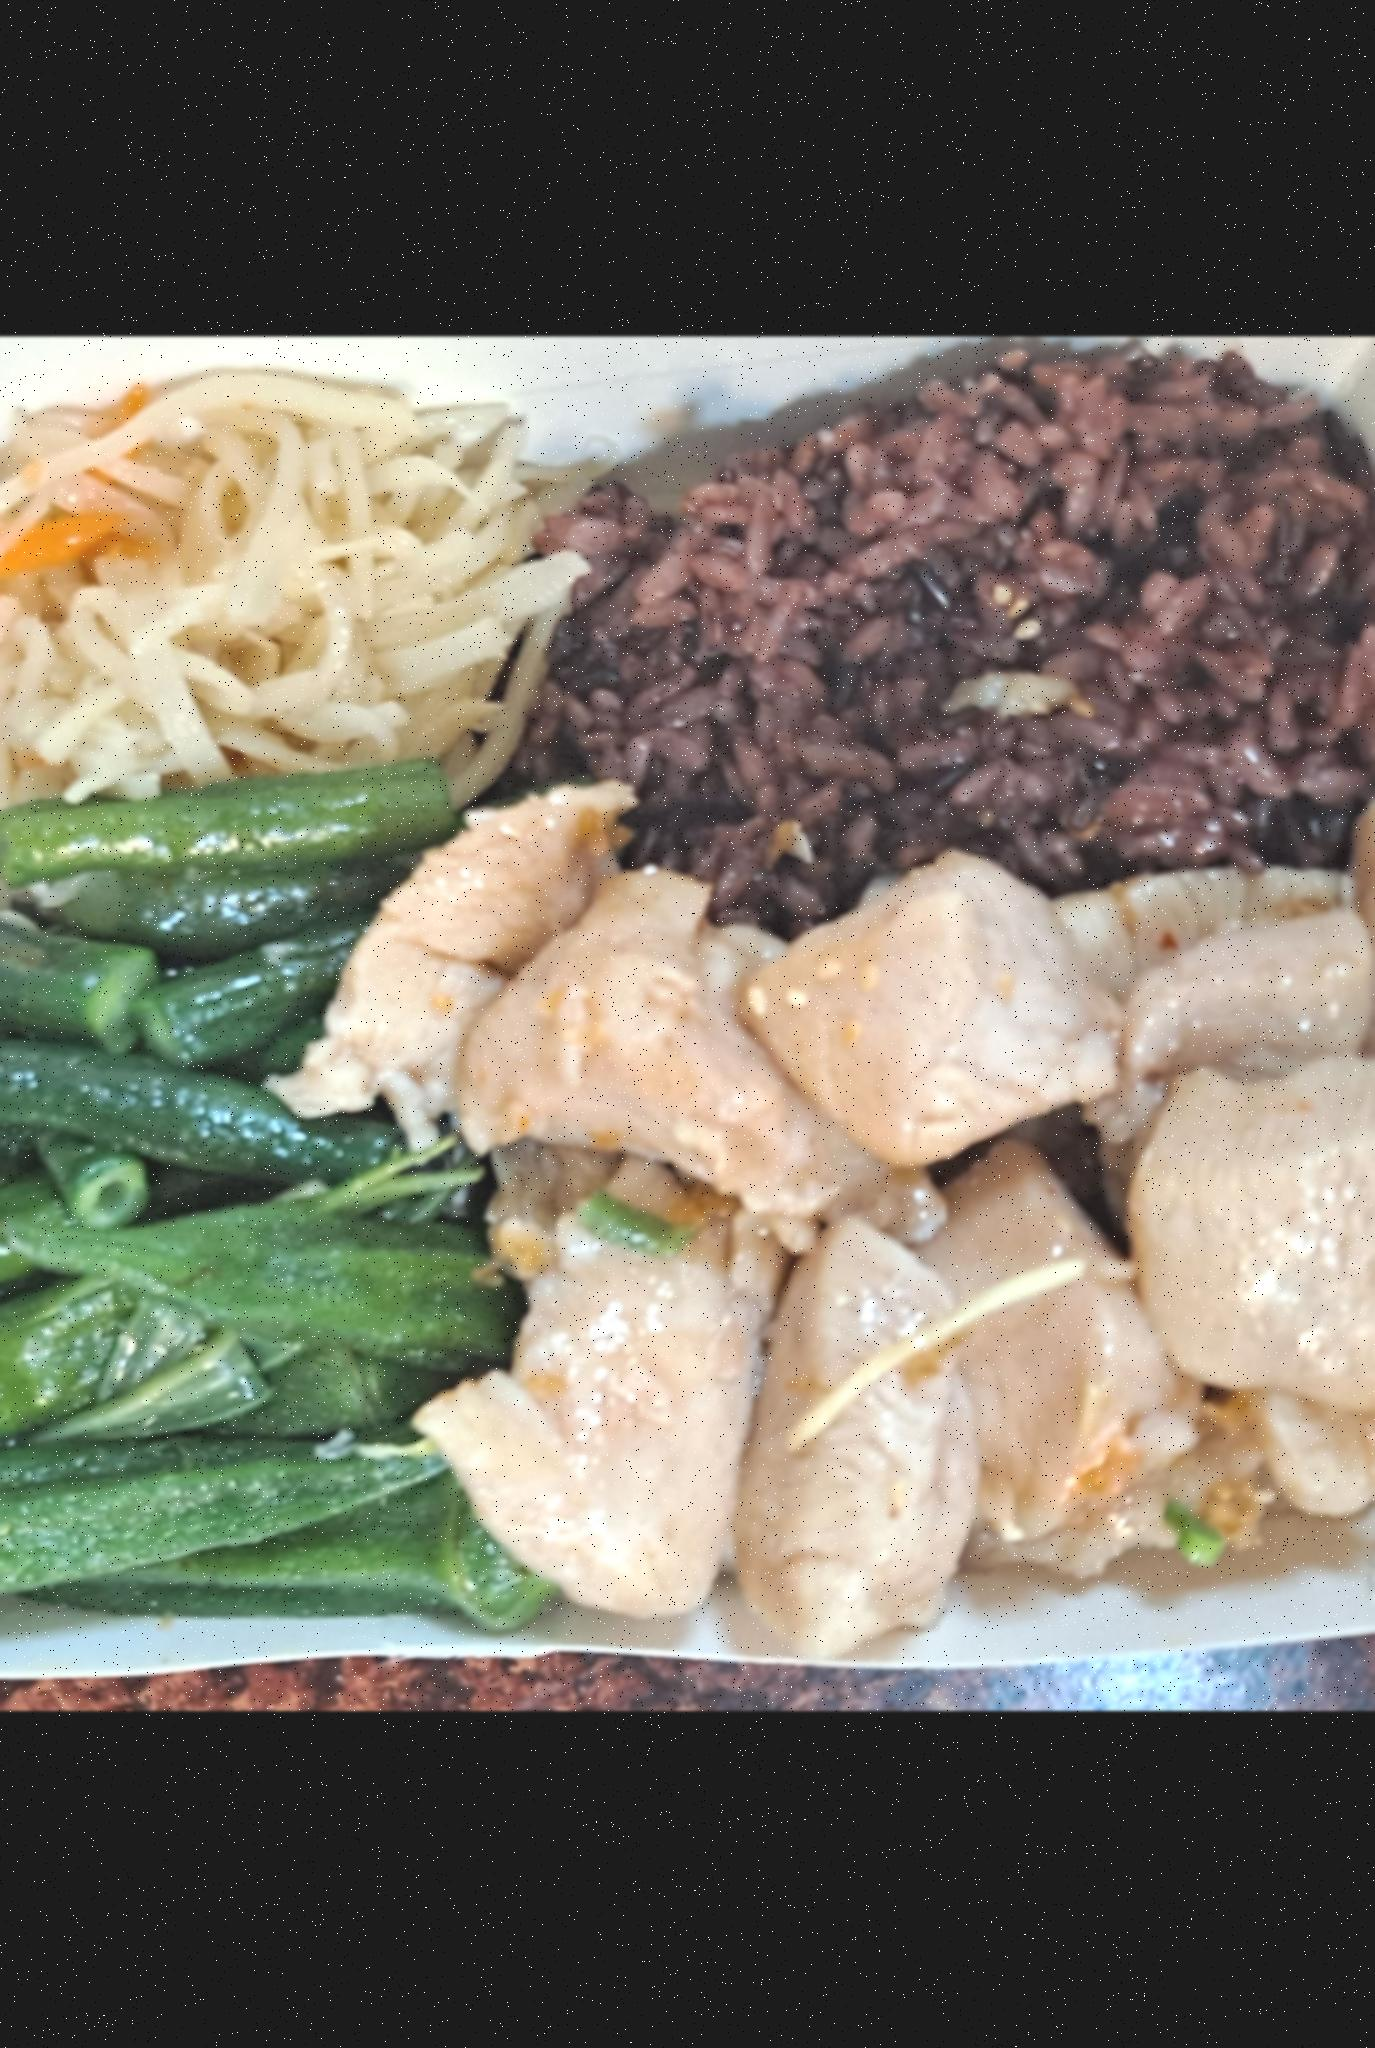big grilled chicken leg: (0, 357, 1375, 1711)
braised fish: (483, 341, 1375, 930)
braised fish fillet: (0, 359, 569, 888), (0, 762, 534, 1243), (0, 1229, 548, 1660)
braised pork: (292, 784, 1375, 1628)
